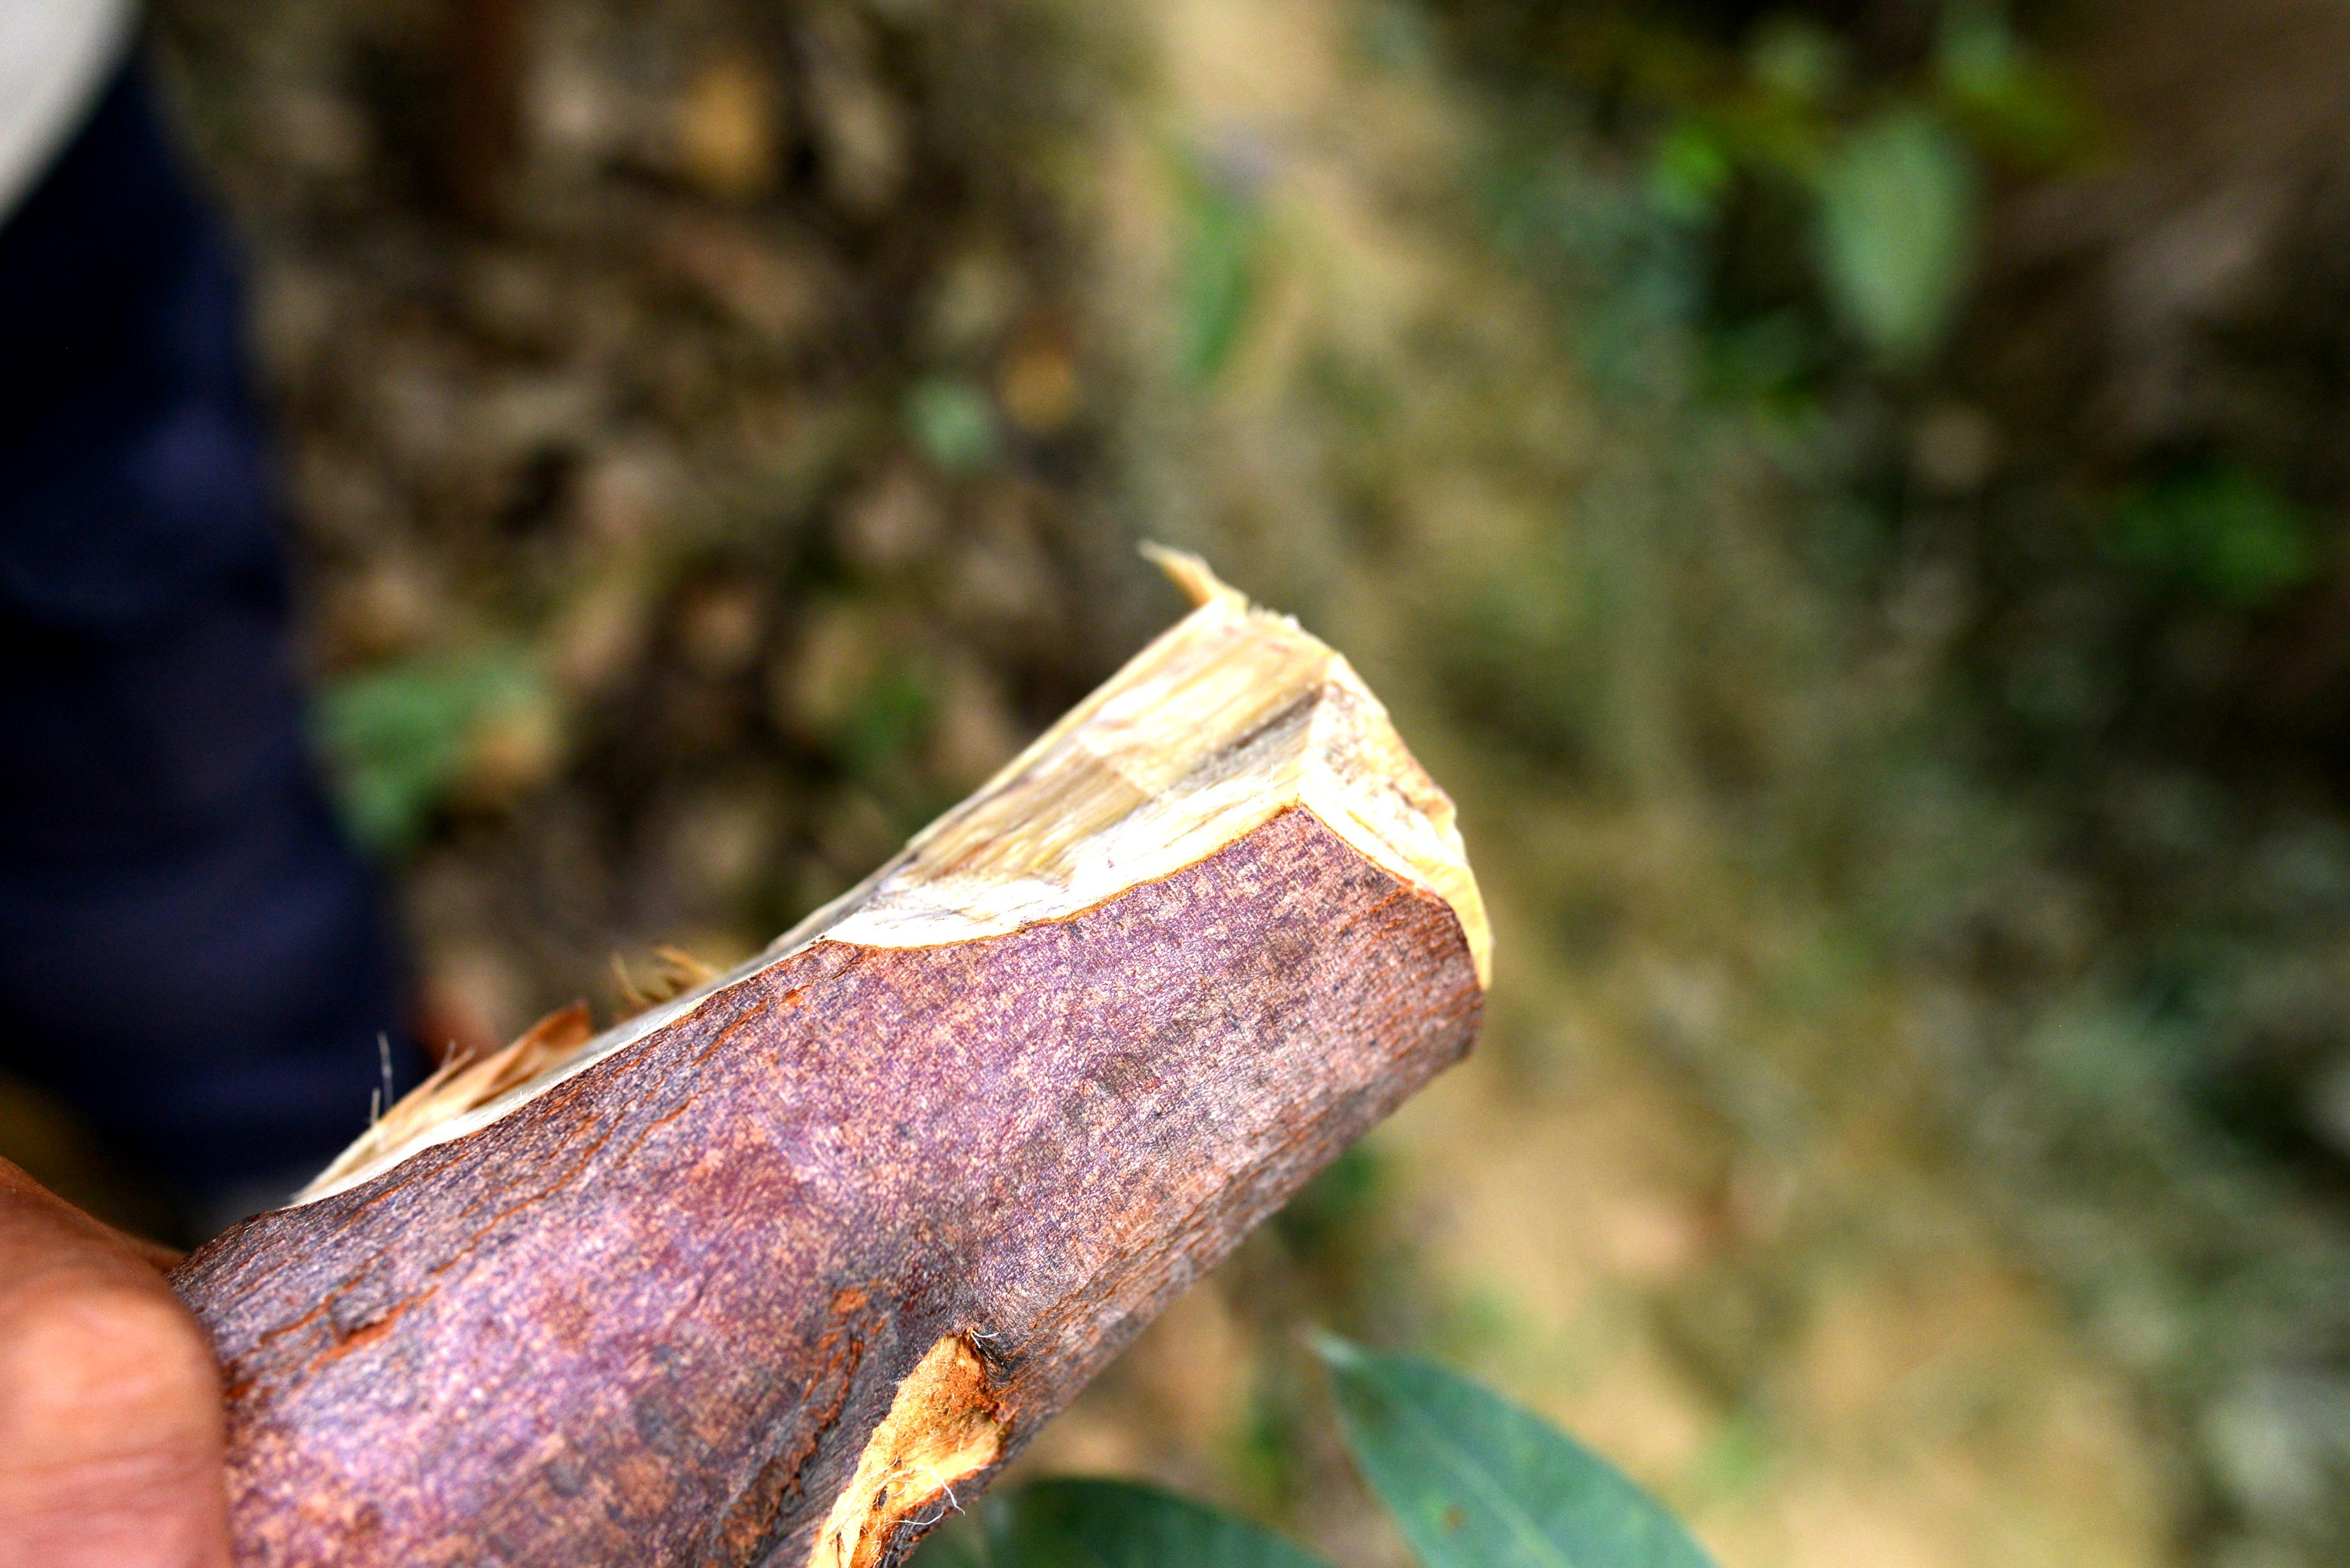Ralstonia: (1211, 661, 1493, 906)
